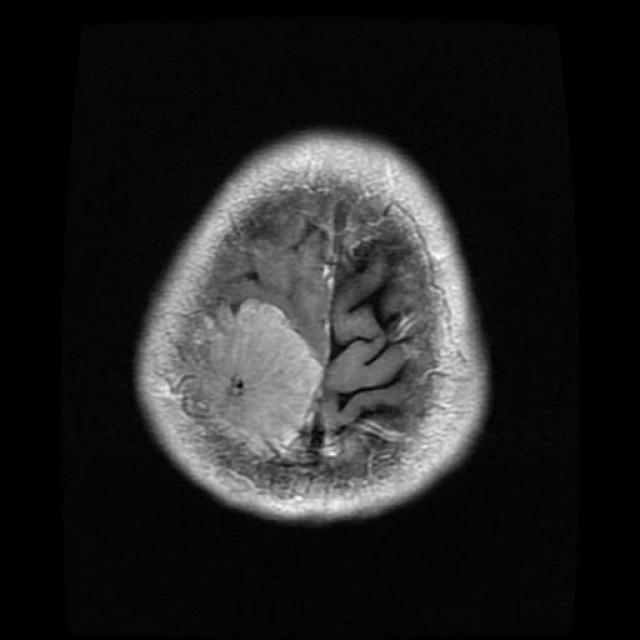meningioma: (192, 296, 330, 457)
